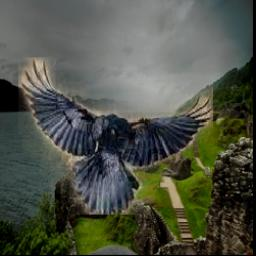Crow: (19, 57, 214, 215)
